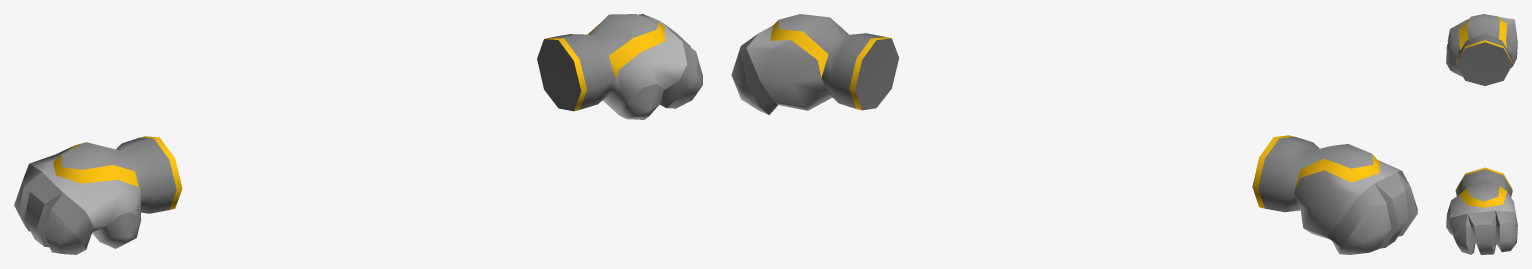
The model's file is Glove_8.fbx.
The picture shows the model from 3 angles, left to right: view 1: azimuth 30°, elevation 25°; view 2: azimuth 150°, elevation 25°; view 3: azimuth 270°, elevation 25°; orthographic projection. The views are drawn at different scales.
Parts seen in each view (by area): view 1: Glove_8; view 2: Glove_8; view 3: Glove_8.
Part boxes in pixels (<box>): Glove_8: <box>14,14,702,254</box>; Glove_8: <box>731,14,1417,254</box>; Glove_8: <box>1446,14,1517,254</box>.
Bounding box in the file's own units: 134 × 17.48 × 19.57.
